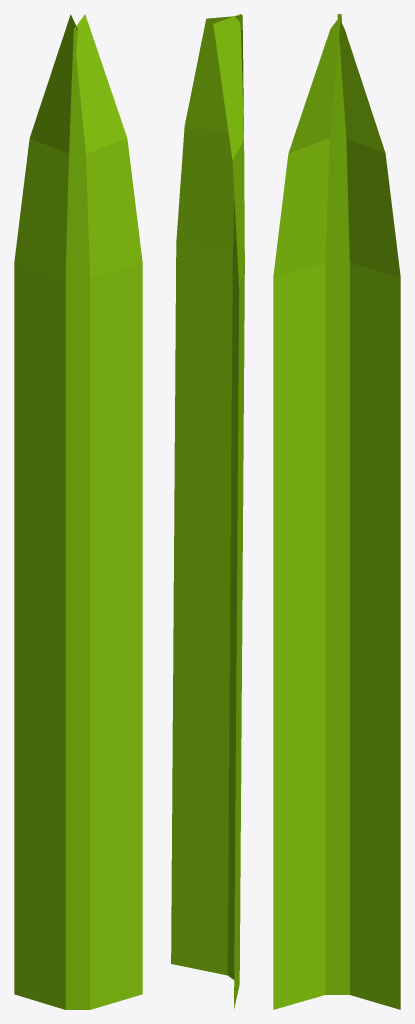
The model's file is grassblade.fbx.
3 renders of one model, left to right at view 1: azimuth 90°, elevation 25°; view 2: azimuth 210°, elevation 25°; view 3: azimuth 270°, elevation 25°, orthographic. The views are drawn at different scales.
Visible parts, largest first — view 1: Plane; view 2: Plane; view 3: Plane.
Boxes of the visible parts, box(x1,y1,x2,y2) form: Plane: box(14, 14, 142, 1009); Plane: box(171, 14, 244, 1008); Plane: box(273, 14, 400, 1009).
Size of the model in its own units: 32.58 by 795 by 93.97.
